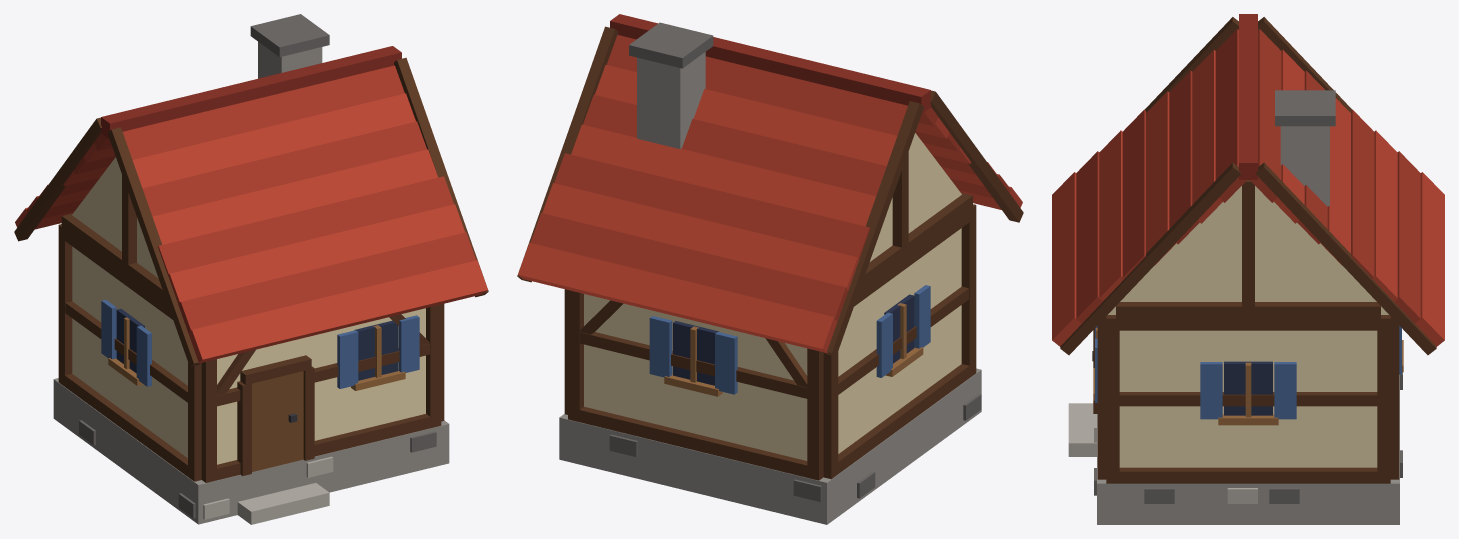
Rendered from house_2.glb.
The picture shows the model from 3 angles, left to right: view 1: azimuth 30°, elevation 25°; view 2: azimuth 150°, elevation 25°; view 3: azimuth 270°, elevation 25°; orthographic projection. The views are drawn at different scales.
Parts seen in each view (by area): view 1: roof_red, roof_red_mid, timber, plaster, stone, ridge, door, shutter_blue, stone_dark, stone_light, window, plank; view 2: roof_red, roof_red_mid, timber, plaster, stone, ridge, shutter_blue, stone_dark, window, plank; view 3: plaster, timber, roof_red, roof_red_mid, stone, stone_dark, ridge, shutter_blue, stone_light, window, plank.
Part boxes in pixels (box(x1,y1,x2,y2)): roof_red: box(15, 93, 487, 363); roof_red_mid: box(26, 65, 475, 332); timber: box(14, 57, 488, 482); plaster: box(72, 157, 425, 464); stone: box(53, 42, 449, 524); ridge: box(101, 46, 401, 139); door: box(252, 371, 303, 471); shutter_blue: box(101, 300, 419, 388); stone_dark: box(79, 14, 436, 518); stone_light: box(203, 456, 333, 524); window: box(116, 308, 397, 380); plank: box(108, 317, 405, 390); roof_red: box(518, 65, 1022, 353); roof_red_mid: box(530, 35, 1010, 321); timber: box(517, 26, 1023, 480); plaster: box(584, 133, 961, 460); stone: box(559, 52, 981, 524); ridge: box(610, 14, 930, 113); shutter_blue: box(649, 285, 930, 394); stone_dark: box(609, 22, 981, 501); window: box(673, 294, 914, 385); plank: box(664, 303, 923, 396); plaster: box(1108, 186, 1388, 467); timber: box(1060, 17, 1436, 483); roof_red: box(1052, 50, 1444, 346); roof_red_mid: box(1076, 29, 1420, 323); stone: box(1097, 126, 1399, 524); stone_dark: box(1094, 90, 1402, 503); ridge: box(1239, 14, 1257, 179); shutter_blue: box(1095, 326, 1401, 419); stone_light: box(1068, 403, 1257, 503); window: box(1224, 361, 1272, 415); plank: box(1093, 328, 1403, 425).
Size of the model in its own units: 1.88 by 2.28 by 2.07.
